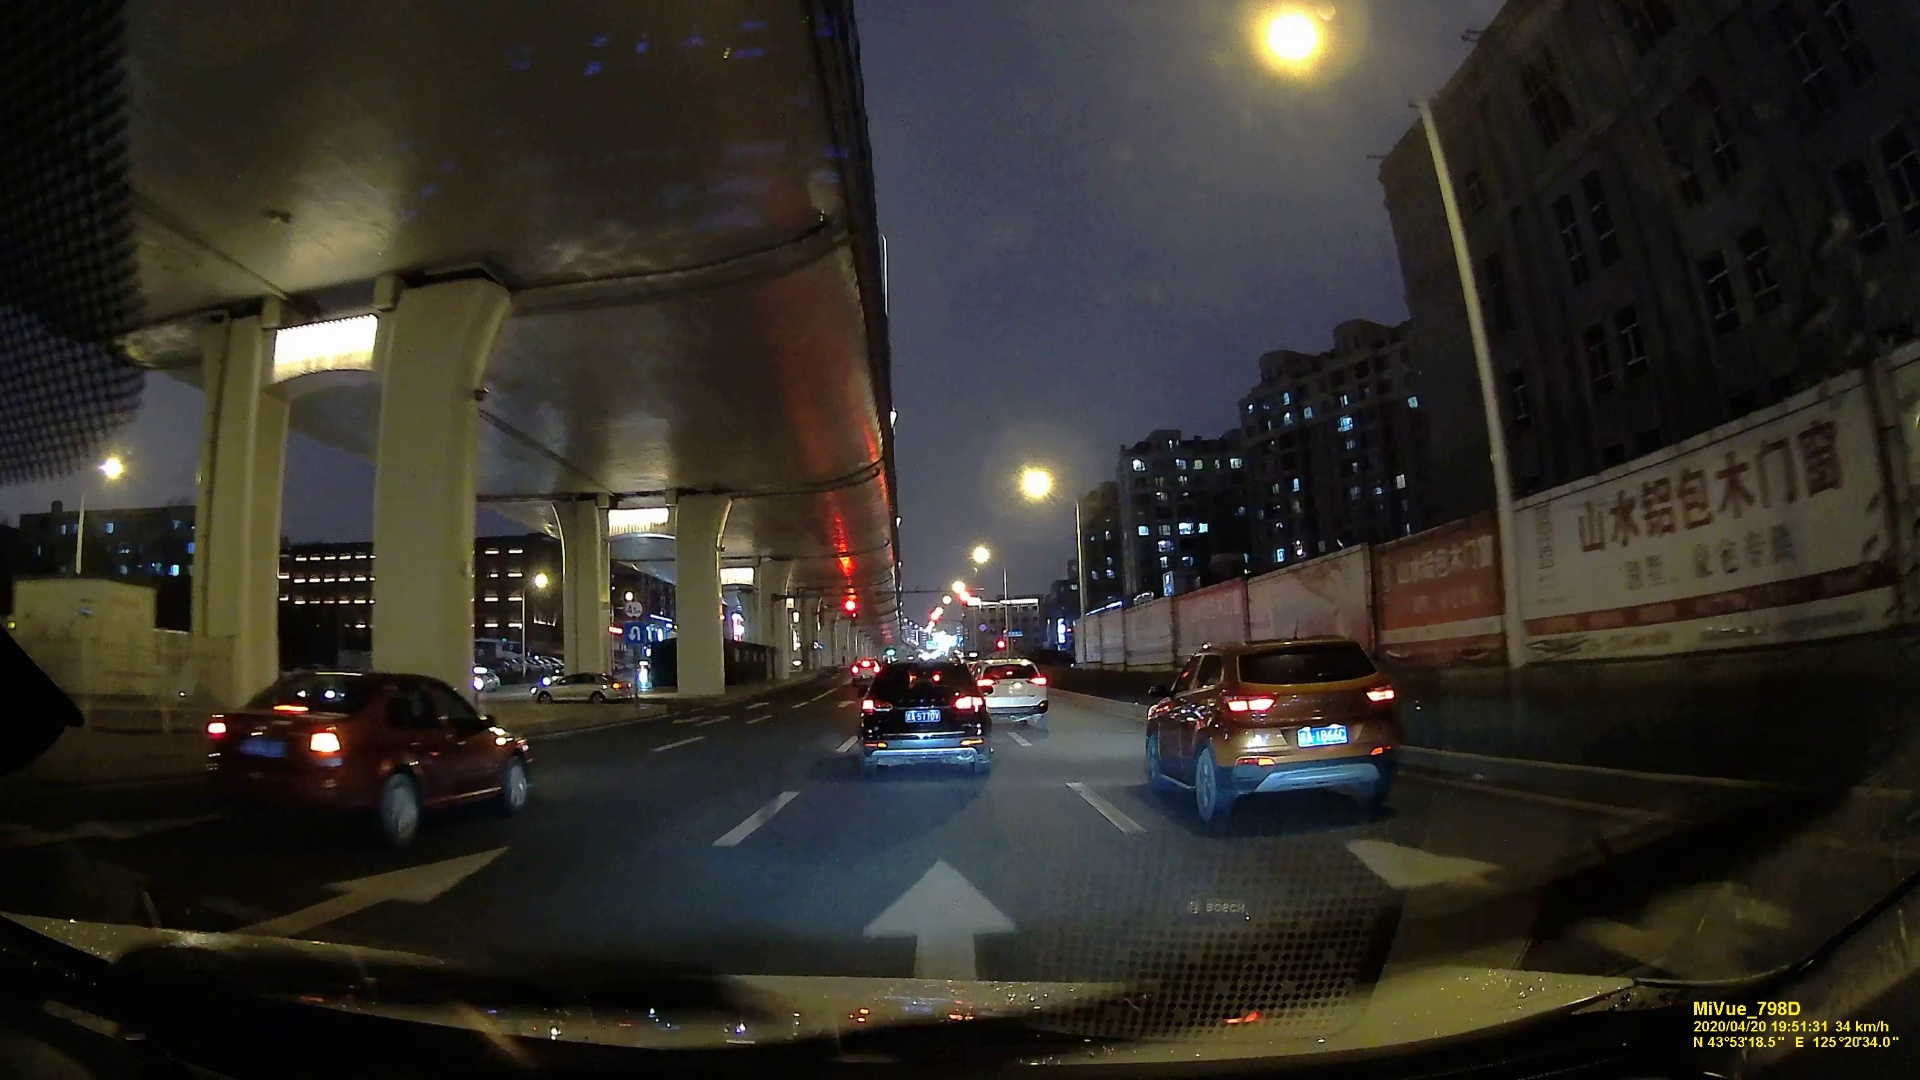vehicle: (187, 662, 535, 851), (1138, 630, 1410, 828), (855, 647, 992, 774), (978, 657, 1050, 721), (531, 671, 634, 705), (847, 657, 877, 684)
